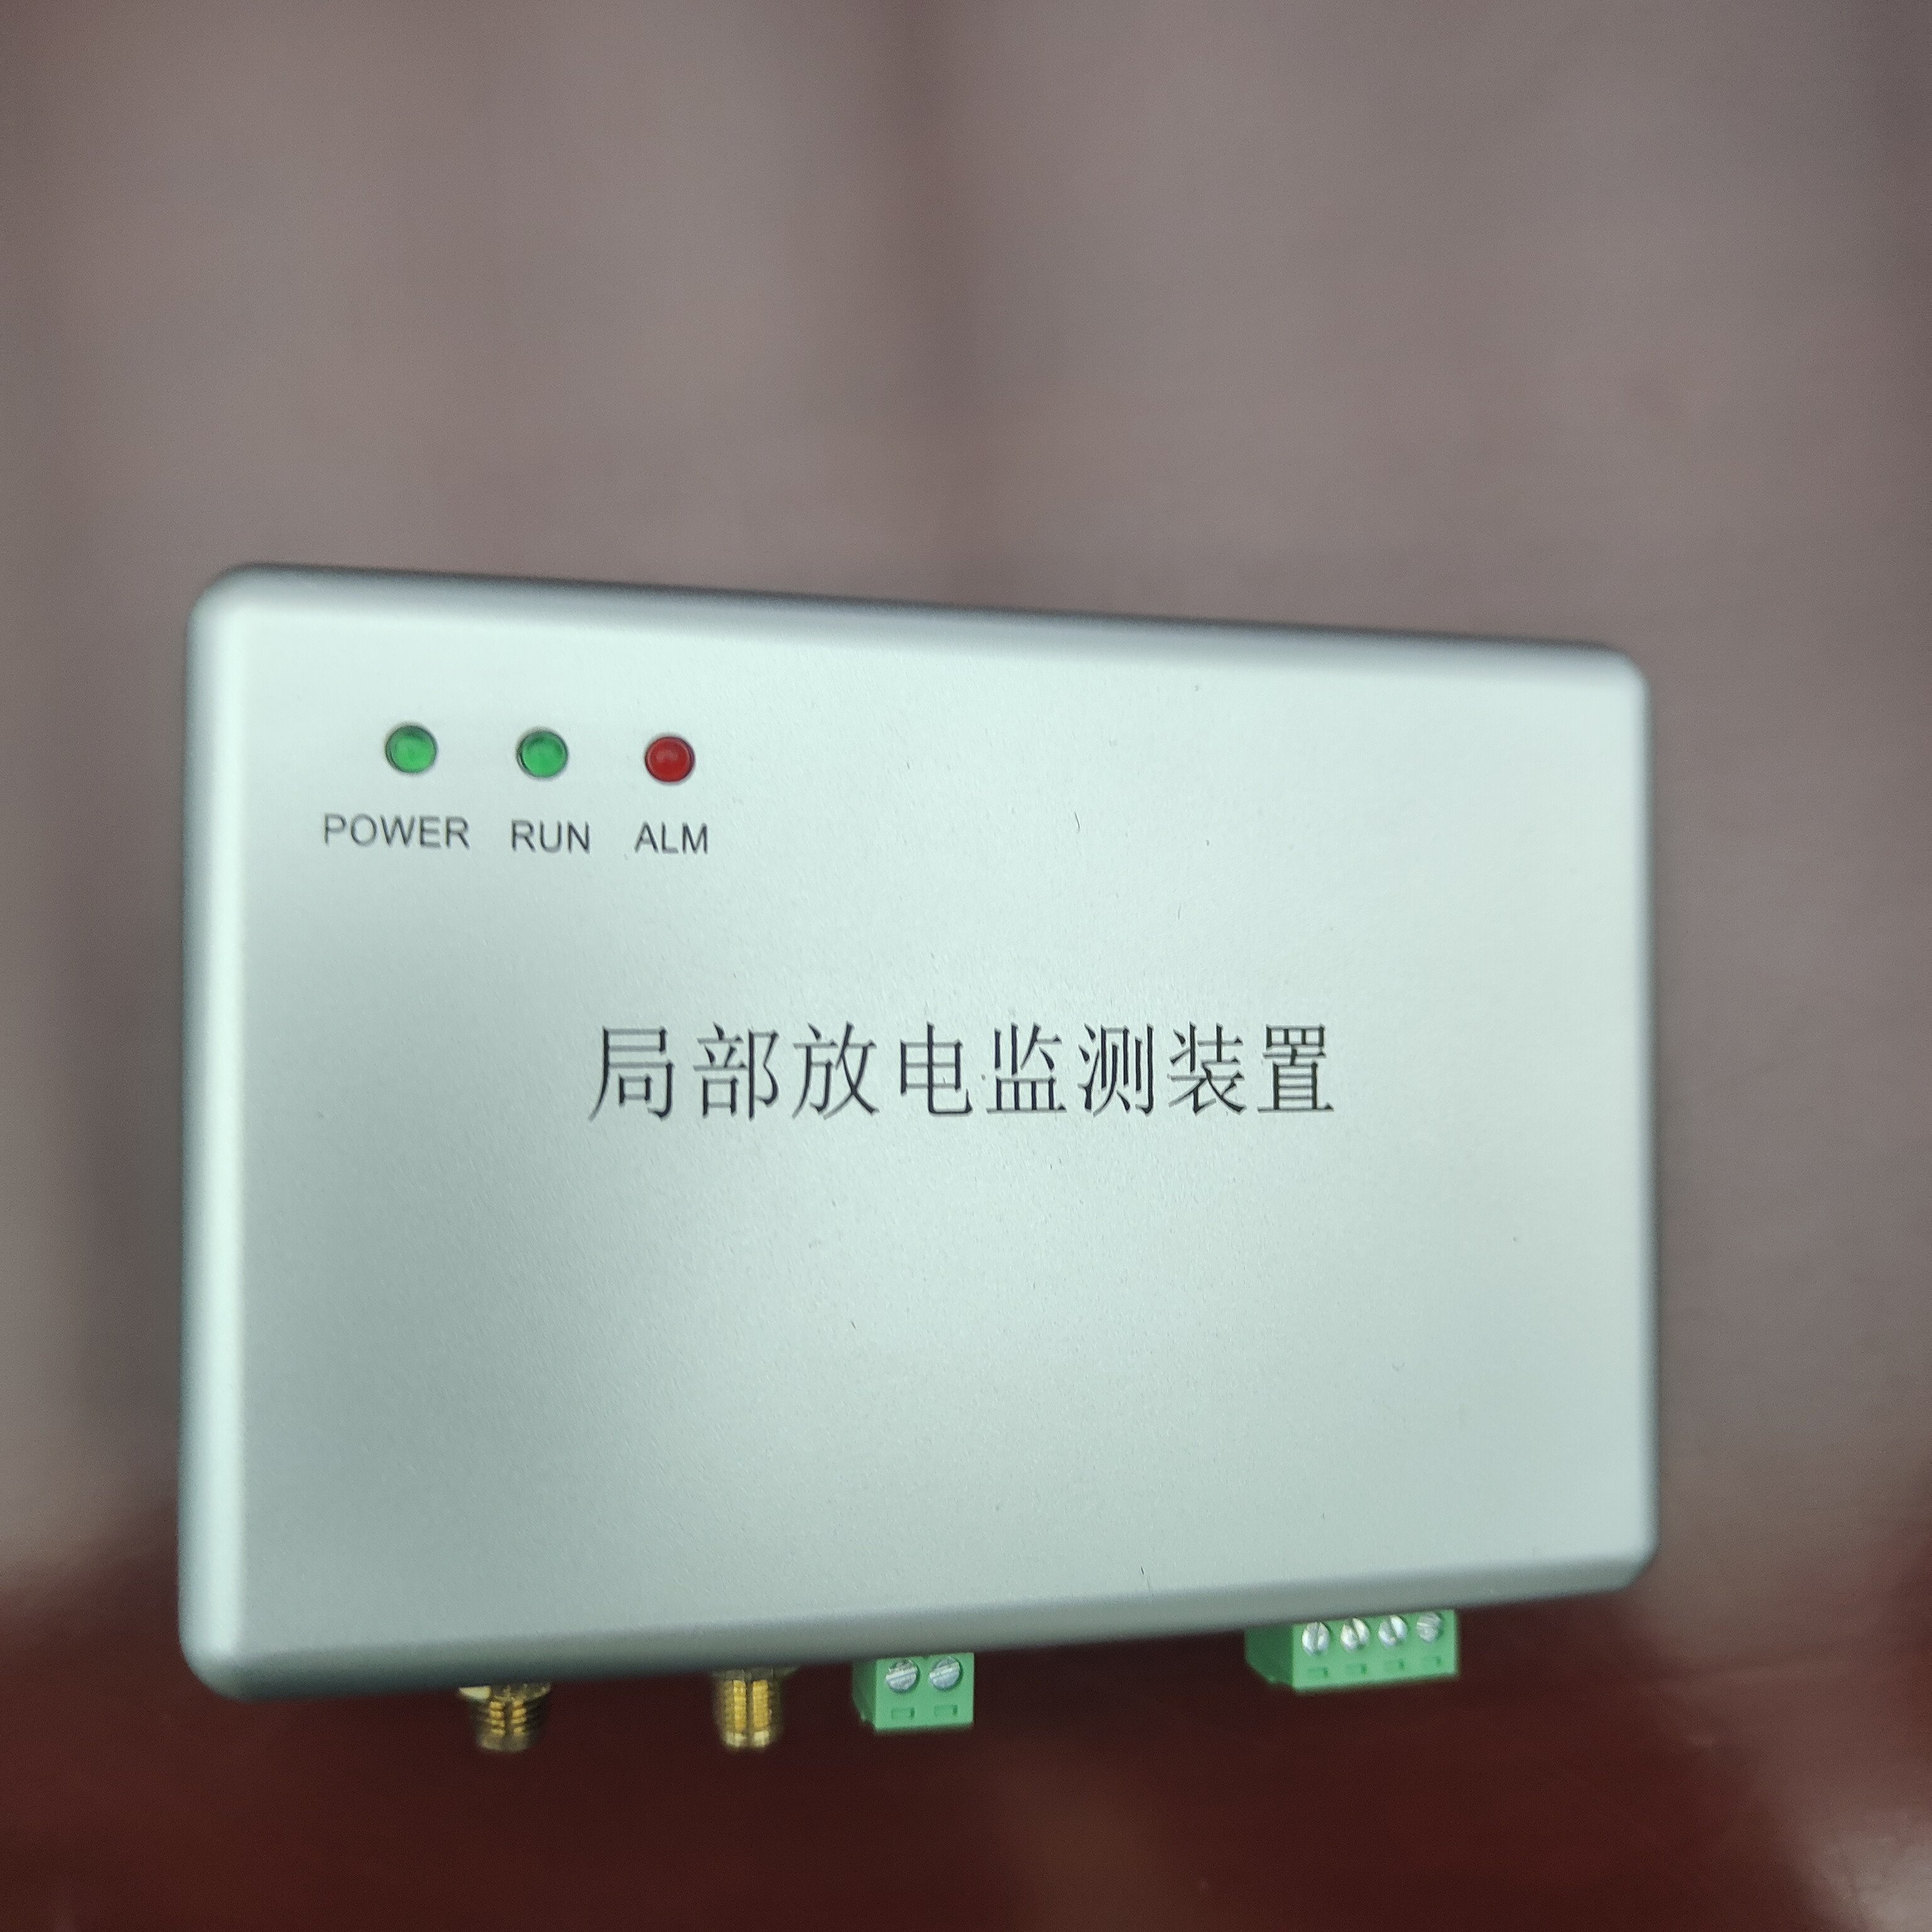jbfdjc: (127, 492, 1730, 1796)
